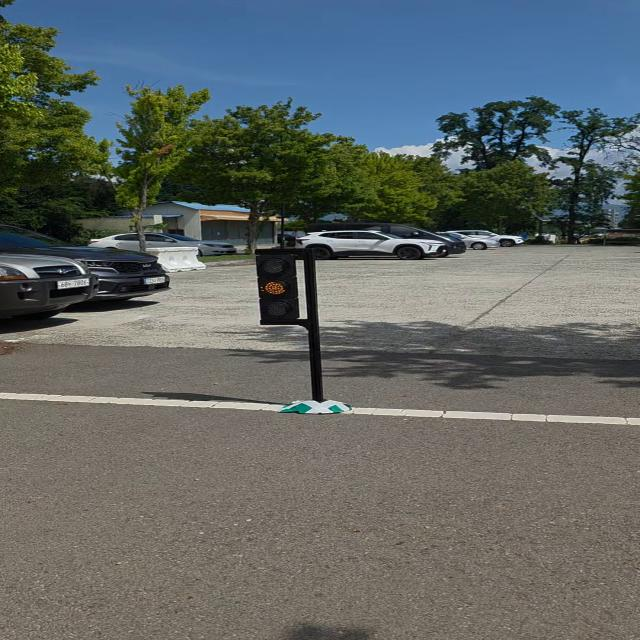yellow: (251, 252, 306, 328)
